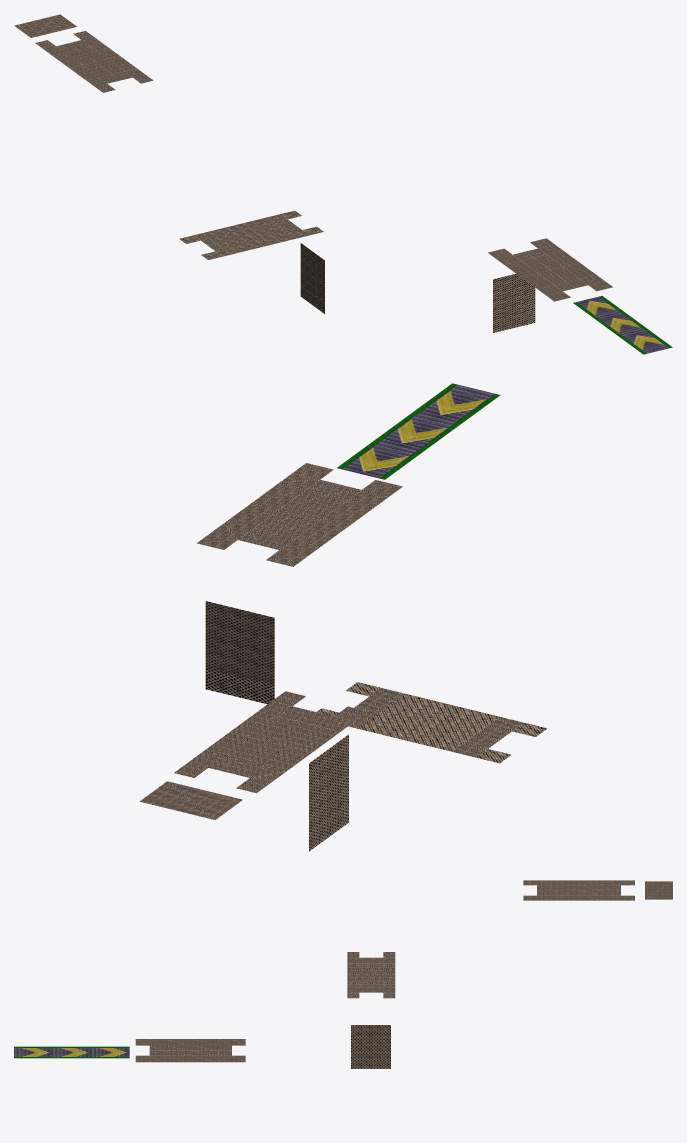
File: Bullet Station 65.fbx
3 views of the same model, one above another, from view 1: azimuth 30°, elevation 25°; view 2: azimuth 150°, elevation 25°; view 3: azimuth 270°, elevation 25° (orthographic). The views are drawn at different scales.
Parts seen in each view (by area): view 1: STG08_PNWS_01; view 2: STG08_PNWS_01; view 3: STG08_PNWS_01.
Boxes of the visible parts, bbox=[...] form: STG08_PNWS_01: bbox=[14, 14, 672, 354]; STG08_PNWS_01: bbox=[139, 383, 547, 851]; STG08_PNWS_01: bbox=[14, 880, 672, 1068].
Bounding box in the file's own units: 65500 × 39201 × 165000.
